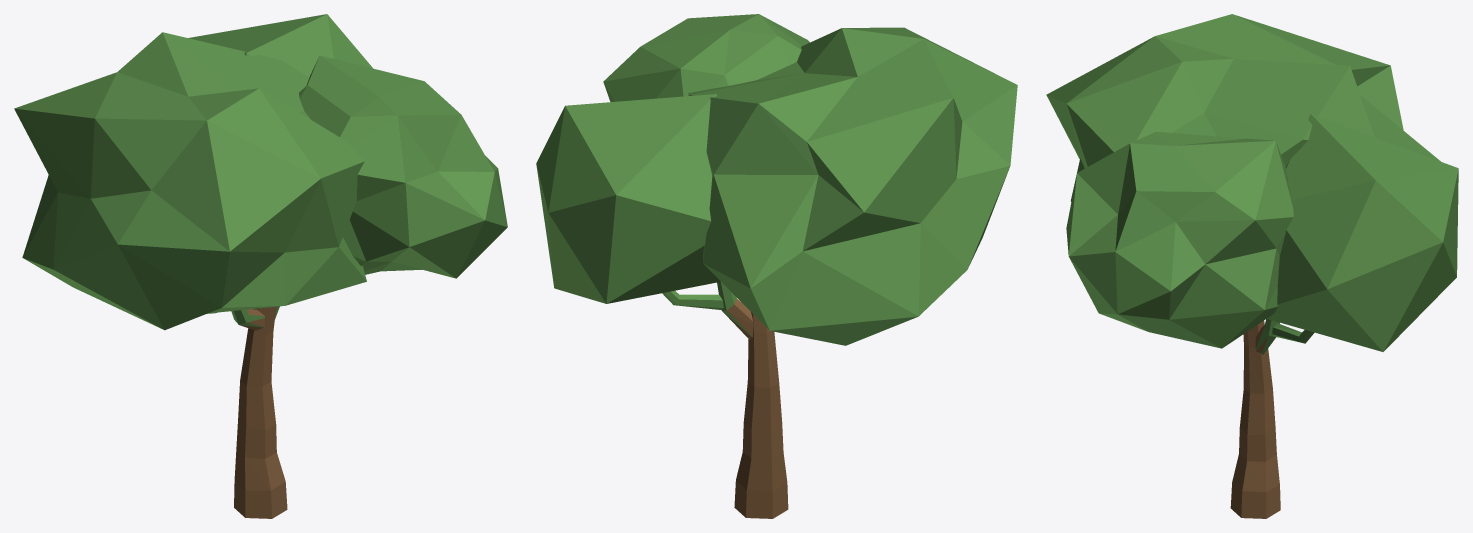
The model's file is tree3d-193.glb.
3 renders of one model, left to right at view 1: azimuth 30°, elevation 25°; view 2: azimuth 150°, elevation 25°; view 3: azimuth 270°, elevation 25°, orthographic. The views are drawn at different scales.
Parts seen in each view (by area): view 1: tree3d-193; view 2: tree3d-193; view 3: tree3d-193.
Boxes of the visible parts, x1=… form: tree3d-193: x1=14, y1=14, x2=507, y2=518; tree3d-193: x1=536, y1=14, x2=1017, y2=518; tree3d-193: x1=1046, y1=14, x2=1458, y2=518.
Bounding box in the file's own units: 0.9076 × 1 × 0.8713.
